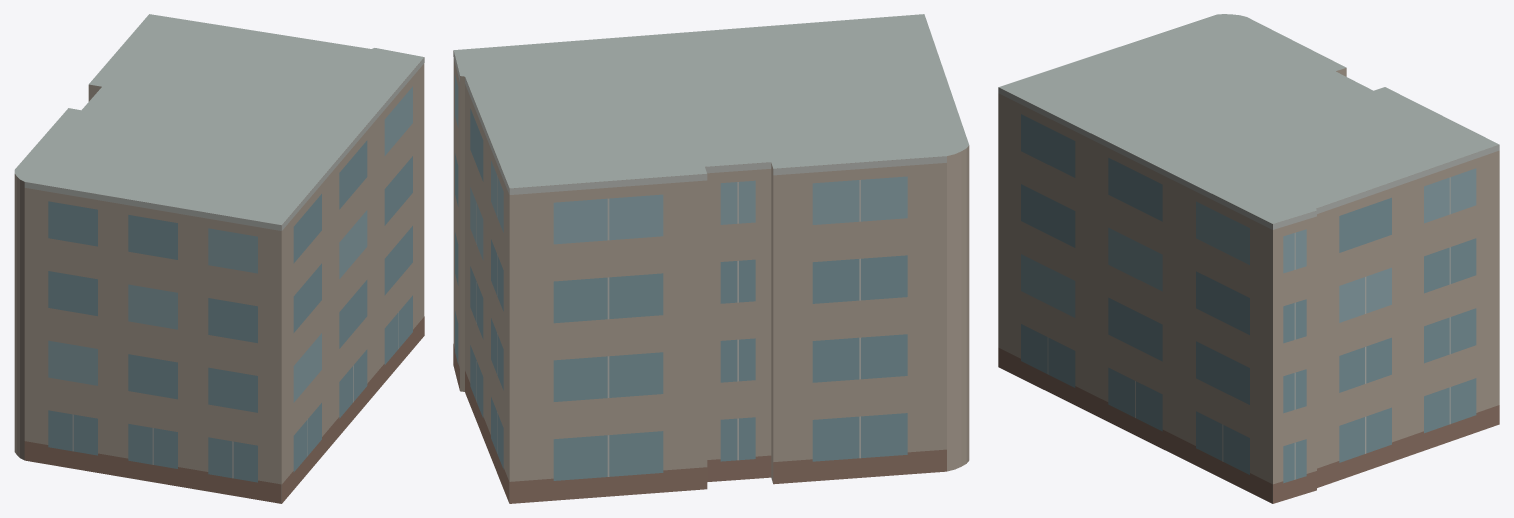
The model's file is survey-upis-32779645.glb.
The picture shows the model from 3 angles, left to right: view 1: azimuth 30°, elevation 25°; view 2: azimuth 150°, elevation 25°; view 3: azimuth 270°, elevation 25°; orthographic projection. The views are drawn at different scales.
Visible parts, largest first — view 1: survey-upis-32779645.tmp; view 2: survey-upis-32779645.tmp; view 3: survey-upis-32779645.tmp.
Part boxes in pixels (bbox=[...]): survey-upis-32779645.tmp: bbox=[14, 14, 424, 503]; survey-upis-32779645.tmp: bbox=[453, 14, 969, 503]; survey-upis-32779645.tmp: bbox=[998, 14, 1499, 503].
Size of the model in its own units: 18.52 by 11.5 by 18.67.
